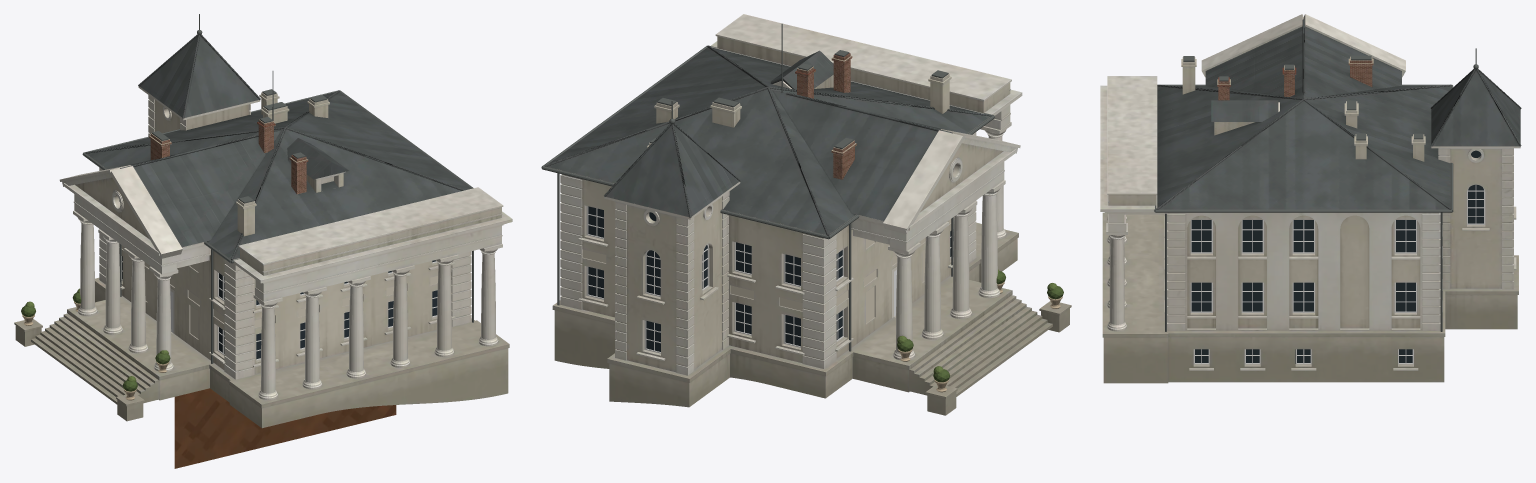
File: worobin-2k.glb
3 views of the same model, side by side, from view 1: azimuth 30°, elevation 25°; view 2: azimuth 150°, elevation 25°; view 3: azimuth 270°, elevation 25° (orthographic). The views are drawn at different scales.
Visible parts, largest first — view 1: W_masonry, W_roof, W_GLTF_7, W_pipe, W_brick, W_glass, W_blind; view 2: W_masonry, W_roof, W_glass, W_pipe, W_sash, W_brick, W_blind, W_leaf; view 3: W_masonry, W_roof, W_glass, W_pipe, W_sash, W_brick.
Part boxes in pixels (<box>): W_masonry: <box>14,86,512,428</box>; W_roof: <box>85,34,471,260</box>; W_GLTF_7: <box>174,388,396,468</box>; W_pipe: <box>82,14,473,363</box>; W_brick: <box>149,119,308,194</box>; W_glass: <box>119,200,437,359</box>; W_blind: <box>119,243,451,338</box>; W_masonry: <box>546,14,1071,415</box>; W_roof: <box>544,45,991,235</box>; W_glass: <box>588,168,953,351</box>; W_pipe: <box>541,23,994,351</box>; W_sash: <box>586,206,951,353</box>; W_brick: <box>795,53,856,179</box>; W_blind: <box>583,217,954,323</box>; W_leaf: <box>897,271,1063,382</box>; W_masonry: <box>1100,14,1520,383</box>; W_roof: <box>1156,19,1521,209</box>; W_glass: <box>1191,150,1483,363</box>; W_pipe: <box>1154,33,1478,331</box>; W_sash: <box>1190,185,1485,364</box>; W_brick: <box>1217,56,1373,100</box>.
Bounding box in the file's own units: 25 × 25.97 × 26.4.
40 materials, 12 textured.
